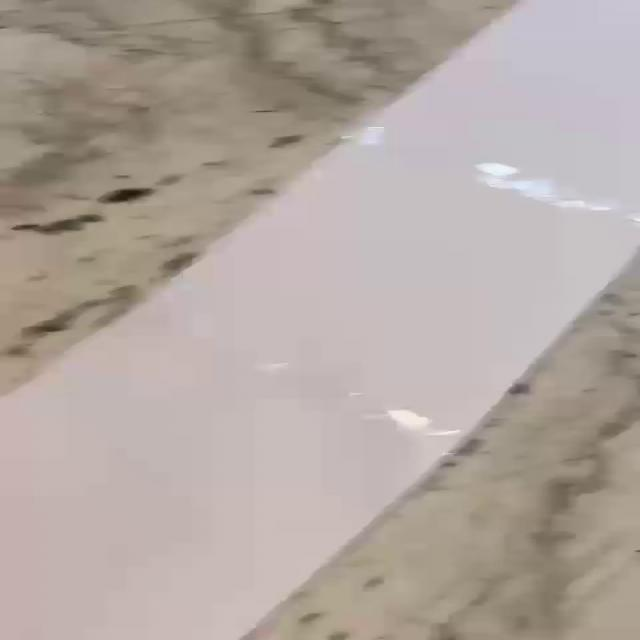road: (1, 0, 640, 640)
